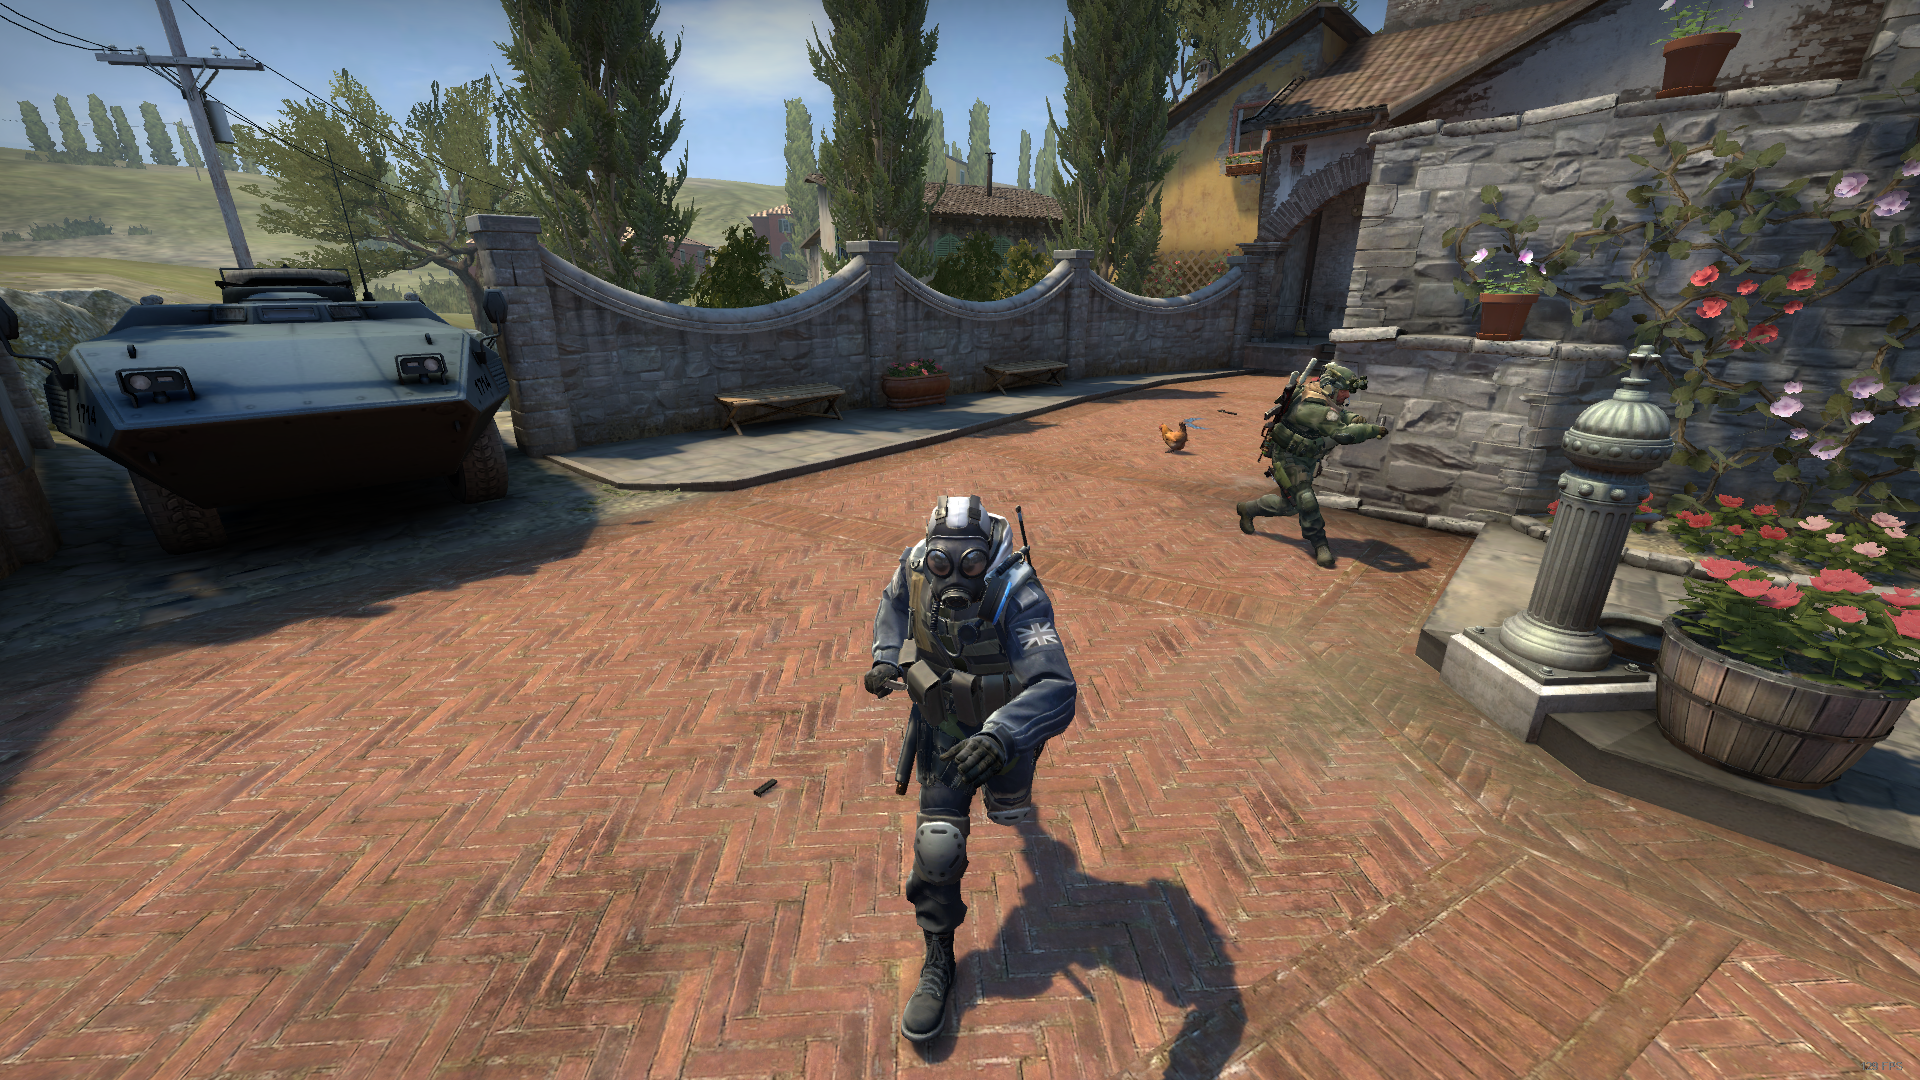ct: (864, 491, 1068, 1051)
